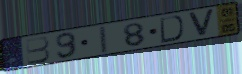8: (121, 22, 148, 48)
9: (54, 31, 79, 60)
B: (25, 35, 53, 66)
D: (159, 15, 186, 45)
I: (98, 25, 109, 55)
V: (186, 8, 216, 37)
